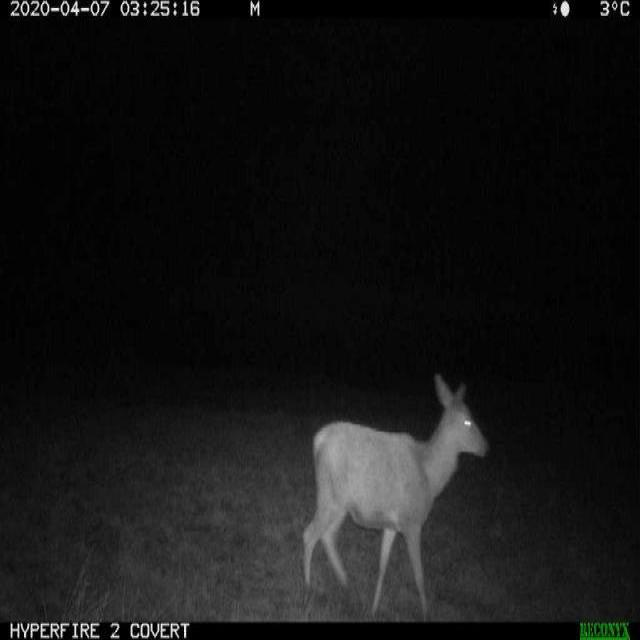deer: (285, 351, 505, 620)
